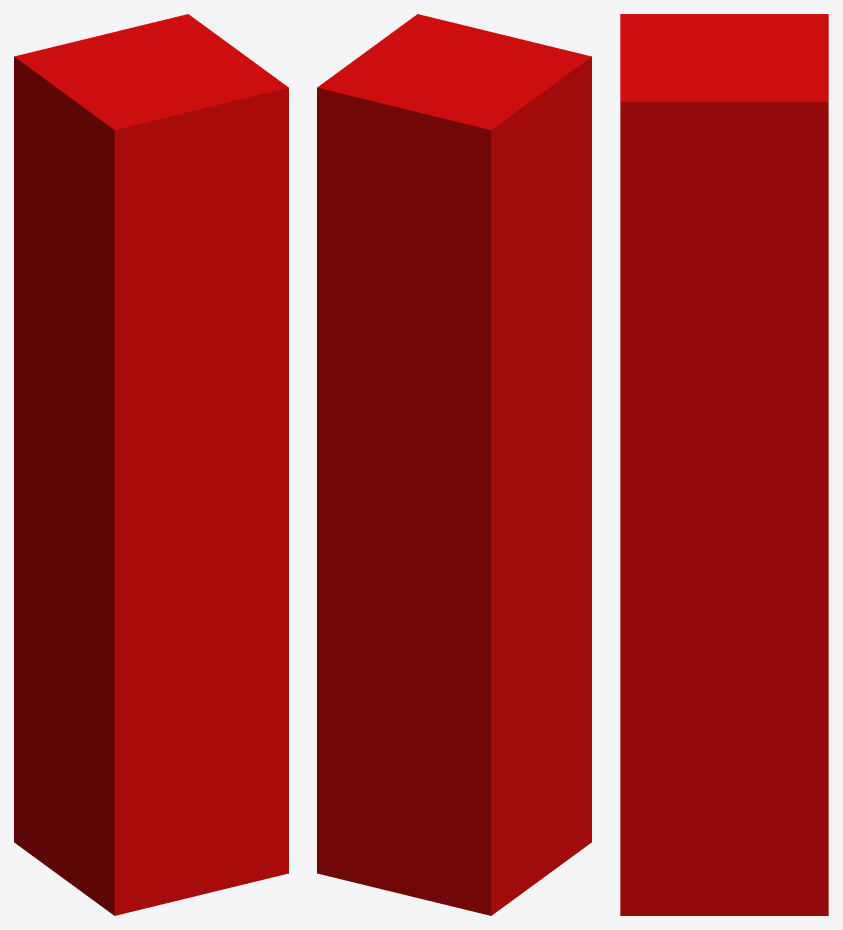
The model's file is insert_task_cube1_block1.dae.
3 renders of one model, left to right at view 1: azimuth 30°, elevation 25°; view 2: azimuth 150°, elevation 25°; view 3: azimuth 270°, elevation 25°, orthographic. The views are drawn at different scales.
Parts seen in each view (by area): view 1: Cube_002; view 2: Cube_002; view 3: Cube_002.
Part boxes in pixels (<box>): Cube_002: <box>14,14,288,915</box>; Cube_002: <box>317,14,591,915</box>; Cube_002: <box>620,14,828,915</box>.
Bounding box in the file's own units: 0.058 × 0.058 × 0.25.
